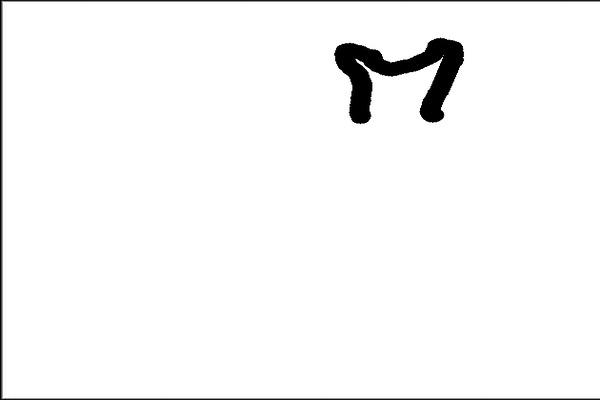M: (332, 32, 465, 130)
